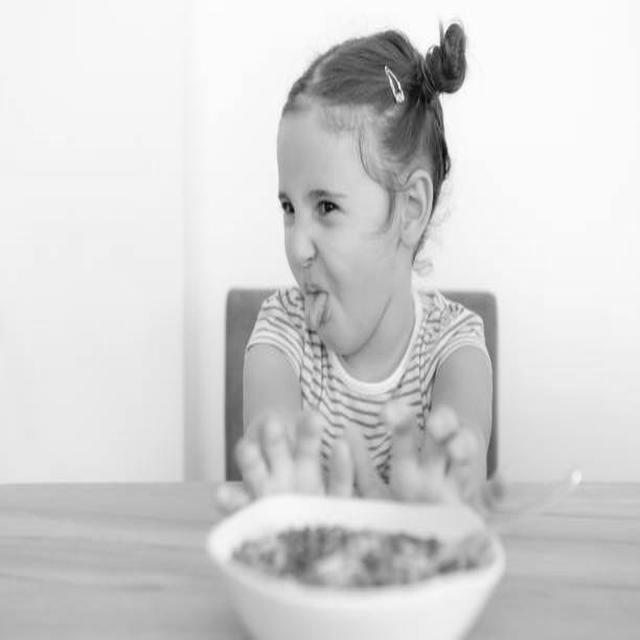Disgust: (277, 115, 401, 356)
